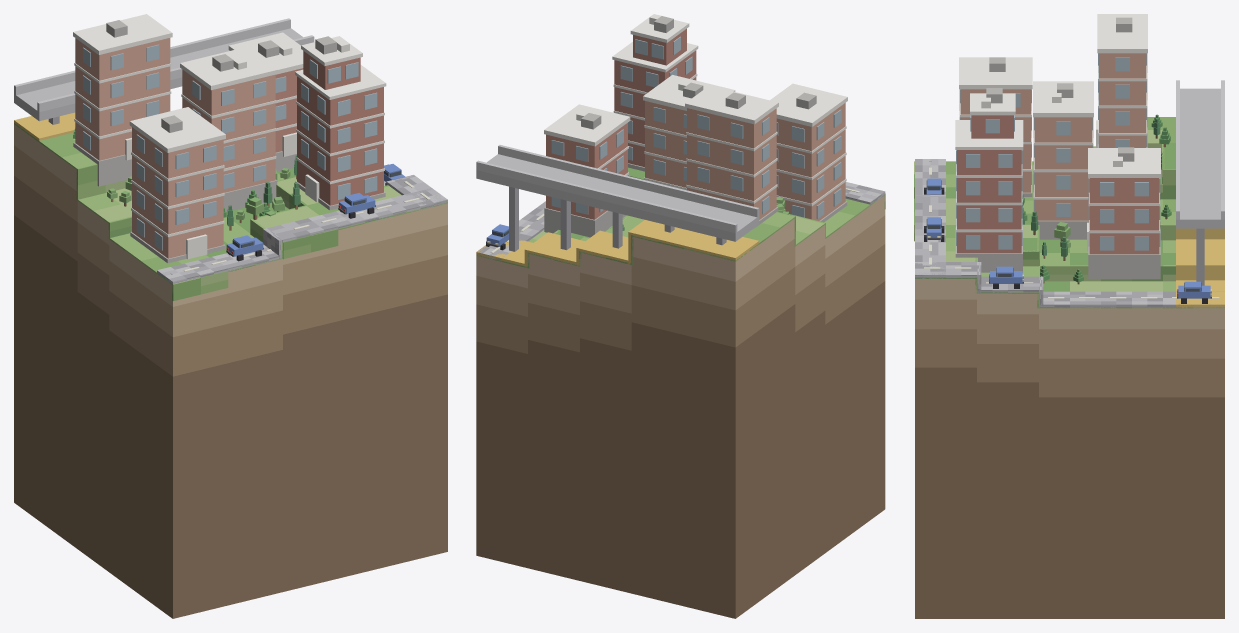
File: block_7_permeable_15.glb
The picture shows the model from 3 angles, left to right: view 1: azimuth 30°, elevation 25°; view 2: azimuth 150°, elevation 25°; view 3: azimuth 270°, elevation 25°; orthographic projection. The views are drawn at different scales.
Visible parts, largest first — view 1: Patch_UpperLeft_b04_PP, Res_UL_09_PP, Res_UL_06_PP, Res_UL_05_PP, Res_UL_08_PP, Green_UpperLeft_j4_b04_PP, Roads_UpperLeft_b04_PP, Bridge_UpperLeft_b04_PP, Res_UL_07_PP, Paver_UpperLeft_b04_PP, ULCar_007_PP, ULCar_006_PP; view 2: Patch_UpperLeft_b04_PP, Bridge_UpperLeft_b04_PP, Res_UL_05_PP, Res_UL_06_PP, Res_UL_09_PP, Res_UL_07_PP, Paver_UpperLeft_b04_PP, Res_UL_08_PP, Green_UpperLeft_j4_b04_PP, Roads_UpperLeft_b04_PP; view 3: Patch_UpperLeft_b04_PP, Res_UL_09_PP, Res_UL_07_PP, Green_UpperLeft_j4_b04_PP, Res_UL_08_PP, Bridge_UpperLeft_b04_PP, Res_UL_05_PP, Roads_UpperLeft_b04_PP, Res_UL_06_PP, Paver_UpperLeft_b04_PP, ULCar_011_PP, ULCar_012_PP (+1 smaller).
Boxes of the visible parts, left/top/right/bottom form: Patch_UpperLeft_b04_PP: left=14, top=124, right=447, bottom=618; Res_UL_09_PP: left=295, top=36, right=386, bottom=210; Res_UL_06_PP: left=129, top=107, right=225, bottom=263; Res_UL_05_PP: left=73, top=14, right=172, bottom=186; Res_UL_08_PP: left=180, top=47, right=277, bottom=211; Green_UpperLeft_j4_b04_PP: left=14, top=123, right=447, bottom=301; Roads_UpperLeft_b04_PP: left=157, top=175, right=447, bottom=285; Bridge_UpperLeft_b04_PP: left=14, top=18, right=314, bottom=124; Res_UL_07_PP: left=228, top=32, right=303, bottom=171; Paver_UpperLeft_b04_PP: left=14, top=112, right=75, bottom=140; ULCar_007_PP: left=338, top=193, right=375, bottom=218; ULCar_006_PP: left=226, top=235, right=263, bottom=261; Patch_UpperLeft_b04_PP: left=476, top=196, right=885, bottom=618; Bridge_UpperLeft_b04_PP: left=476, top=145, right=759, bottom=251; Res_UL_05_PP: left=685, top=85, right=778, bottom=228; Res_UL_06_PP: left=770, top=83, right=847, bottom=222; Res_UL_09_PP: left=612, top=14, right=698, bottom=171; Res_UL_07_PP: left=544, top=104, right=630, bottom=237; Paver_UpperLeft_b04_PP: left=476, top=220, right=759, bottom=267; Res_UL_08_PP: left=643, top=75, right=735, bottom=190; Green_UpperLeft_j4_b04_PP: left=476, top=167, right=885, bottom=268; Roads_UpperLeft_b04_PP: left=476, top=182, right=885, bottom=260; Patch_UpperLeft_b04_PP: left=915, top=279, right=1224, bottom=618; Res_UL_09_PP: left=955, top=88, right=1023, bottom=272; Res_UL_07_PP: left=1087, top=147, right=1160, bottom=279; Green_UpperLeft_j4_b04_PP: left=914, top=117, right=1224, bottom=308; Res_UL_08_PP: left=1033, top=81, right=1093, bottom=239; Bridge_UpperLeft_b04_PP: left=1176, top=80, right=1224, bottom=285; Res_UL_05_PP: left=1096, top=14, right=1147, bottom=147; Roads_UpperLeft_b04_PP: left=915, top=159, right=1224, bottom=308; Res_UL_06_PP: left=959, top=57, right=1032, bottom=196; Paver_UpperLeft_b04_PP: left=1176, top=228, right=1224, bottom=308; ULCar_011_PP: left=1177, top=281, right=1211, bottom=303; ULCar_012_PP: left=989, top=266, right=1023, bottom=288.
Size of the model in its own units: 9.5 by 16.62 by 9.53.
